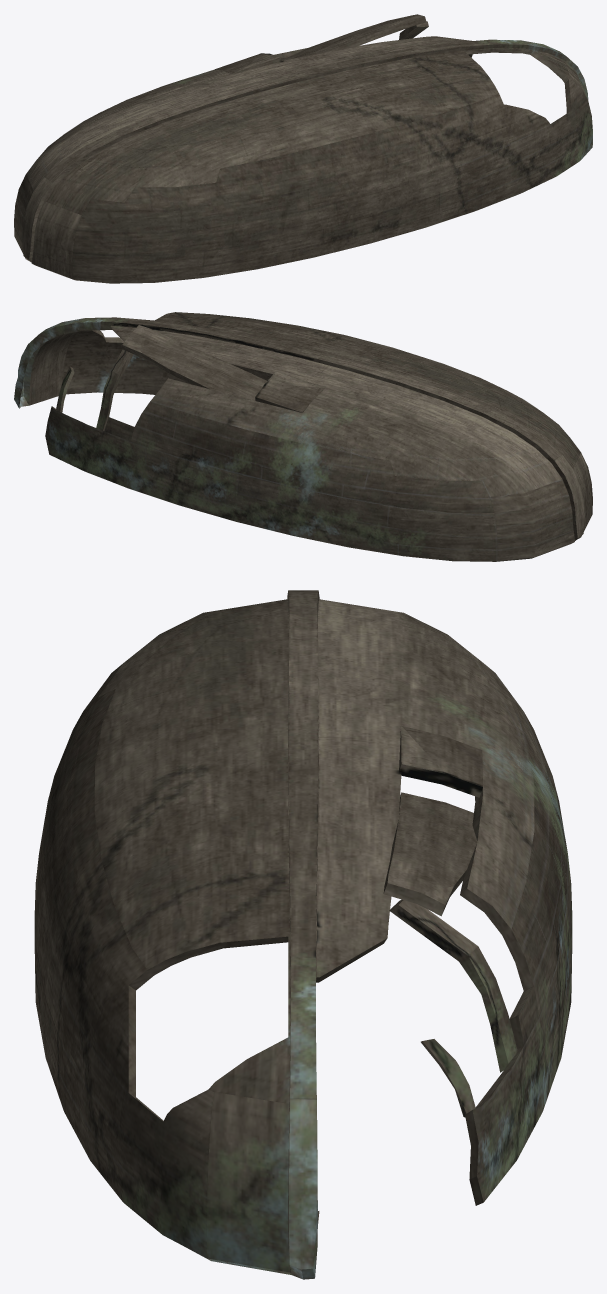
The model's file is broken_row_boat.glb.
The picture shows the model from 3 angles, top to bottom: view 1: azimuth 30°, elevation 25°; view 2: azimuth 150°, elevation 25°; view 3: azimuth 270°, elevation 25°; orthographic projection. The views are drawn at different scales.
Parts seen in each view (by area): view 1: Cube.001; view 2: Cube.001; view 3: Cube.001.
Part boxes in pixels (box(x1,y1,x2,y2)): Cube.001: box(14, 14, 592, 283); Cube.001: box(14, 312, 592, 561); Cube.001: box(34, 590, 572, 1279).
Bounding box in the file's own units: 2 × 0.4436 × 0.8259.
Materials: 1 (1 with a texture image).
